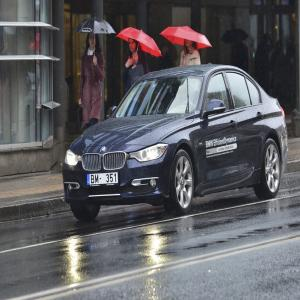Vehicle-registration-plate: (88, 171, 119, 189)
